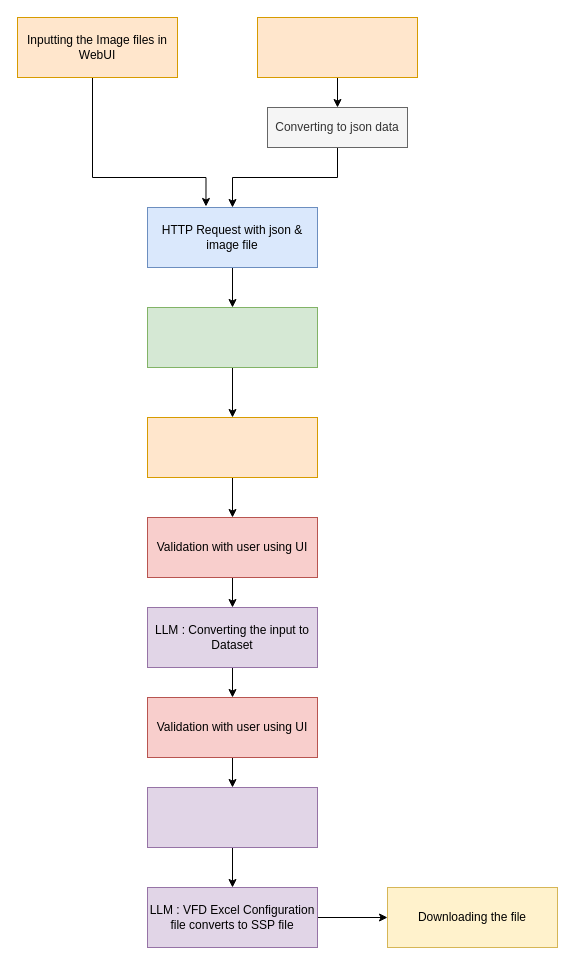
Image size: 575x965. Some labels were removed from this diagram. Each missing label, with the box of its shape:
Inputting the parameters in Web UI: (256, 16, 418, 78)
LLM : Dataset is converted to the VFD Excel Configuration file: (146, 786, 318, 848)
OCR Module to convert Image to data Set: (146, 416, 318, 478)
Webhook to N8N: (146, 306, 318, 368)
